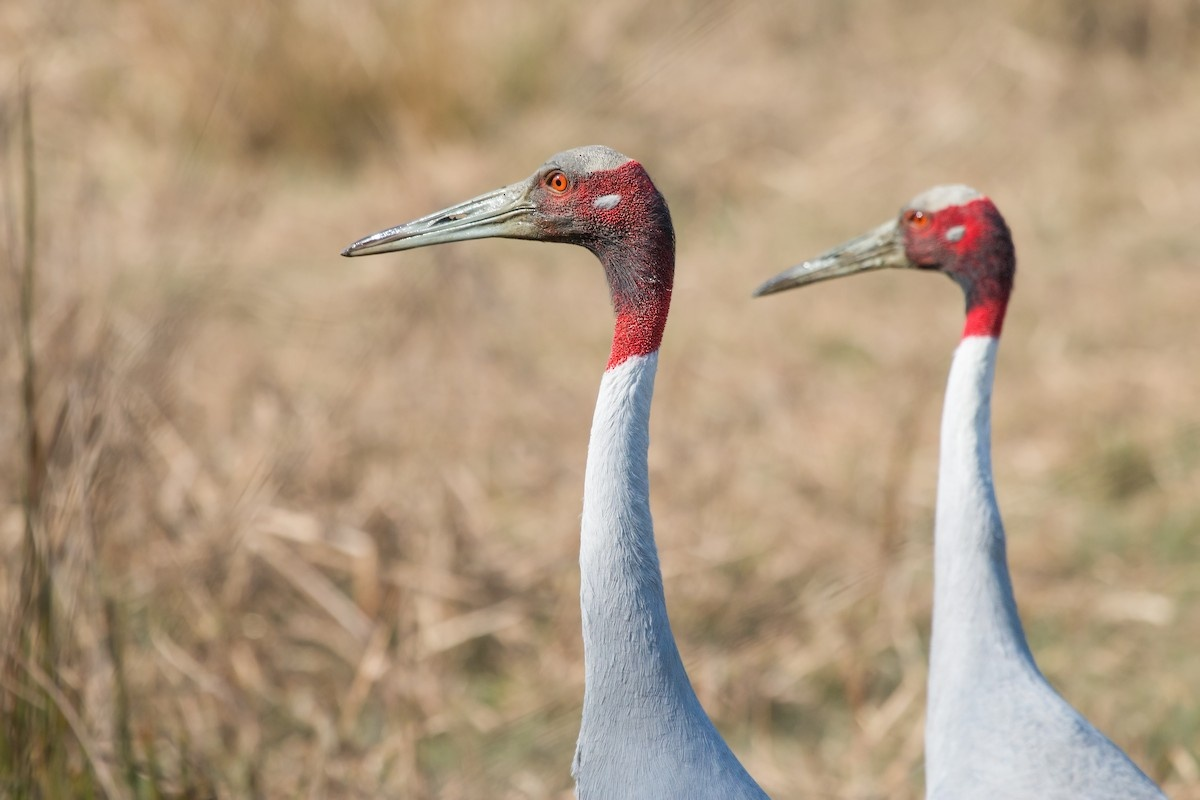crane: (338, 138, 806, 800), (768, 151, 1194, 800)
